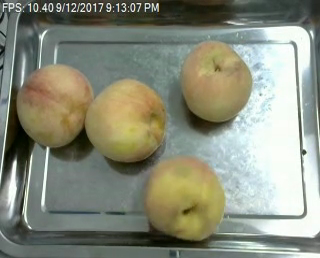Peach: (86, 76, 166, 162), (146, 155, 226, 240), (15, 63, 93, 147), (179, 39, 252, 123)
